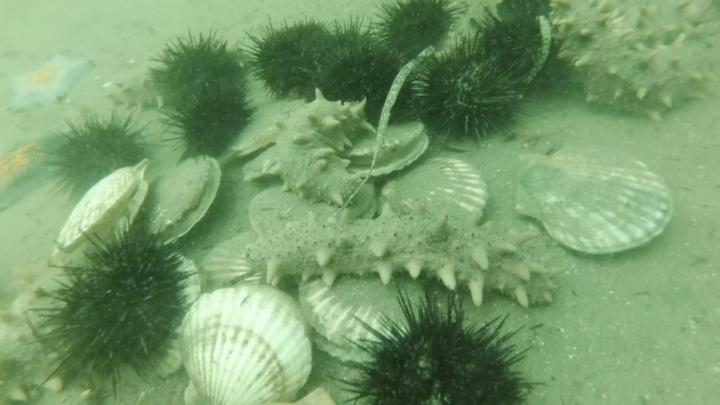echinus: (34, 213, 199, 398), (325, 282, 547, 405), (415, 38, 529, 148), (303, 18, 412, 126), (40, 113, 150, 207), (469, 2, 571, 93), (147, 30, 249, 114), (245, 16, 339, 102), (161, 82, 252, 159), (369, 1, 469, 64)
holothurian: (244, 199, 566, 310), (547, 1, 710, 126), (262, 97, 380, 210), (2, 257, 83, 405), (610, 1, 719, 50), (101, 70, 176, 113)
scallop: (514, 146, 677, 258), (177, 285, 315, 405), (300, 276, 431, 365), (52, 157, 149, 269), (385, 151, 492, 227), (147, 155, 225, 252), (152, 253, 207, 384), (341, 120, 431, 181), (247, 183, 340, 238), (229, 96, 310, 158), (198, 231, 269, 290), (433, 132, 523, 157)
starfish: (4, 53, 100, 117), (2, 135, 73, 218)
